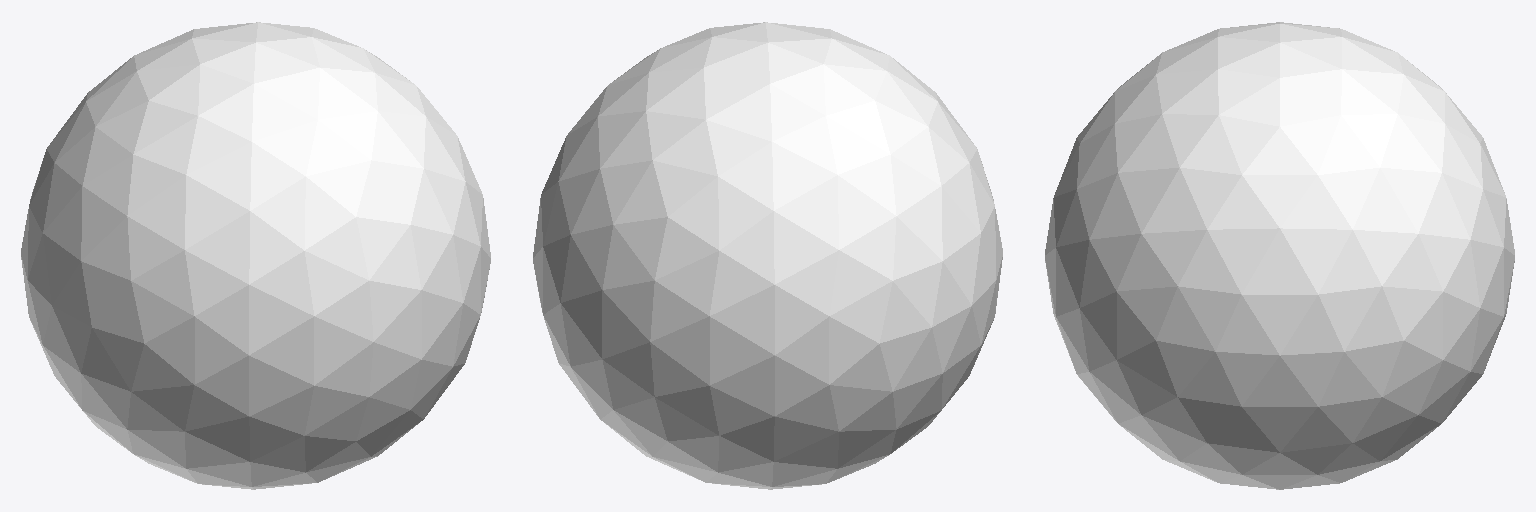
Rendered from Ball.obj.
3 views of the same model, side by side, from view 1: azimuth 30°, elevation 25°; view 2: azimuth 150°, elevation 25°; view 3: azimuth 270°, elevation 25° (orthographic).
Visible parts, largest first — view 1: Ball; view 2: Ball; view 3: Ball.
Part boxes in pixels (x1,y1,x2,y2): Ball: (21,22,490,489); Ball: (533,22,1002,489); Ball: (1045,22,1514,489).
Size of the model in its own units: 0.15 by 0.15 by 0.15.